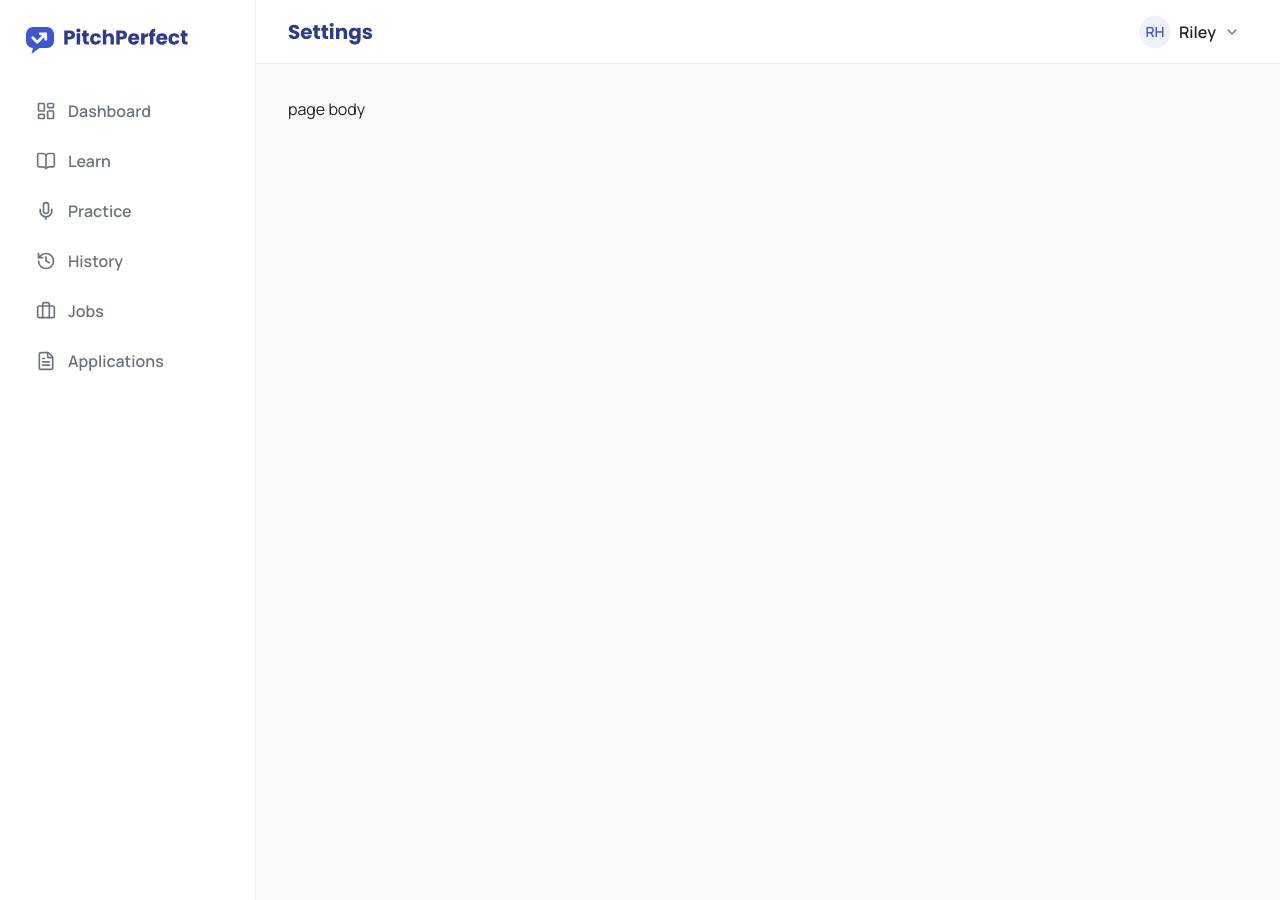
RoleShell › keeps settings in the account menu
Expected: the heading "Settings" is shown, [288, 18, 373, 46]
Click the button named "account": [1190, 32] box [1133, 10, 1248, 54]
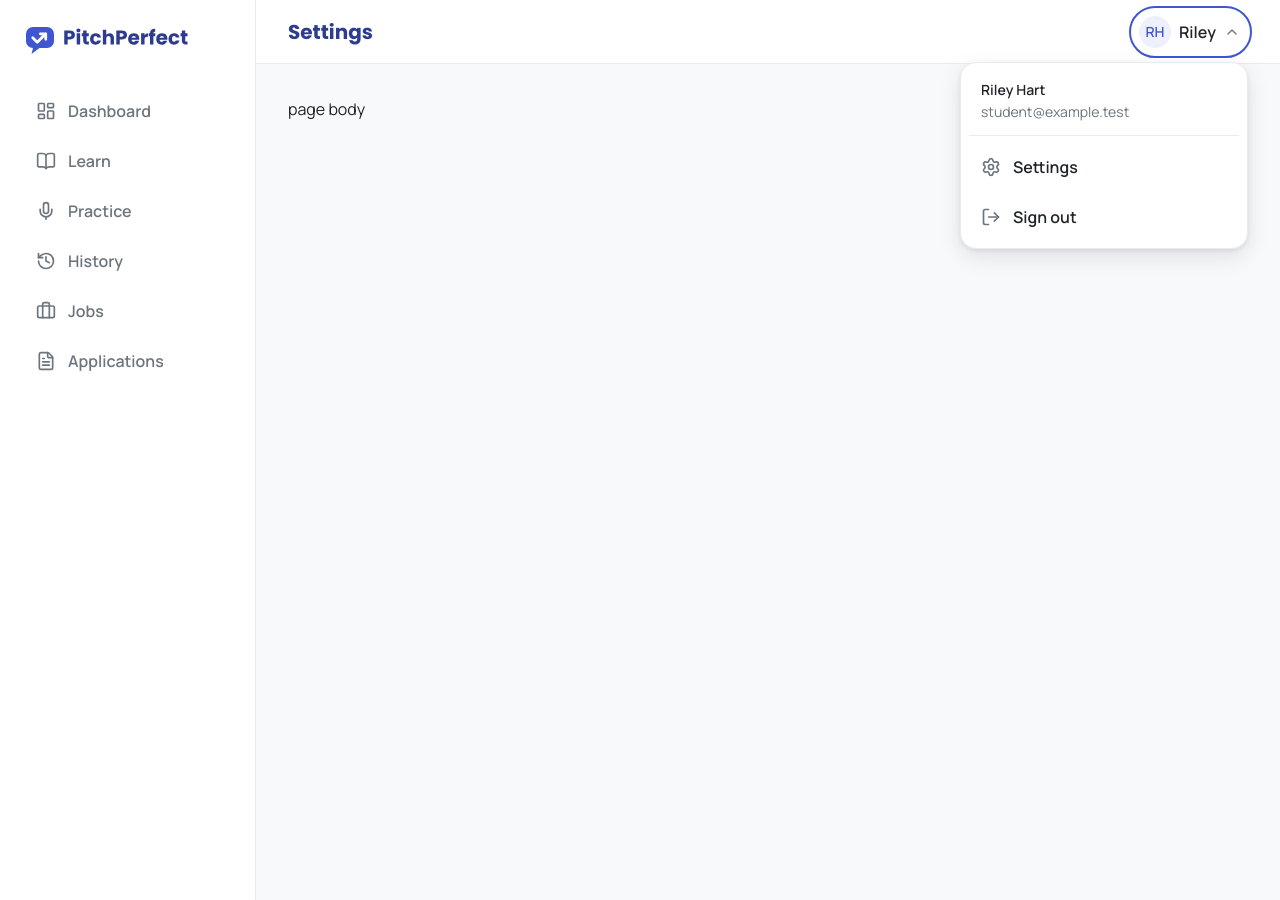
Result: the button named "account" is expanded at [1133, 10, 1248, 54]
Press Escape
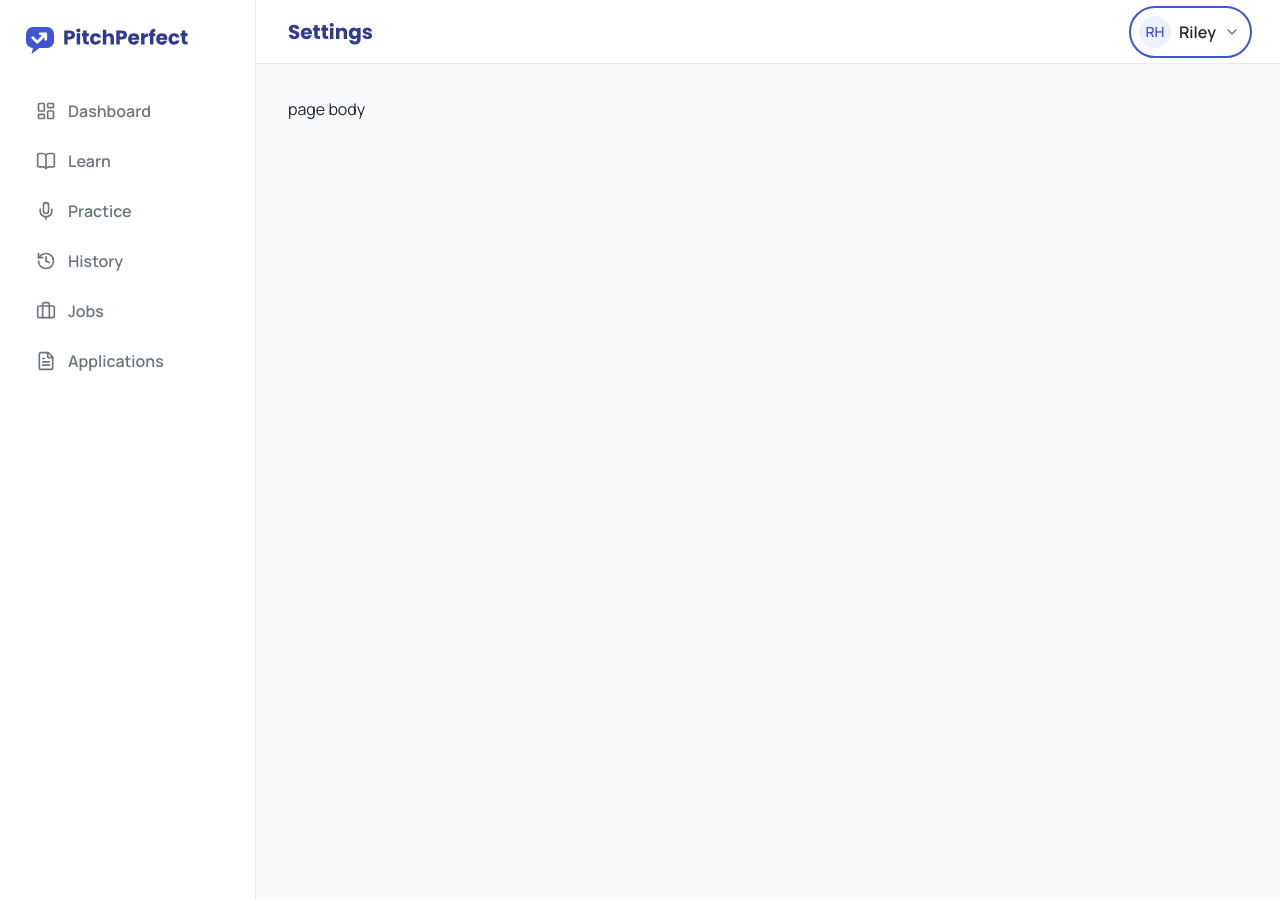
Result: the button named "account" is collapsed at [1133, 10, 1248, 54]
